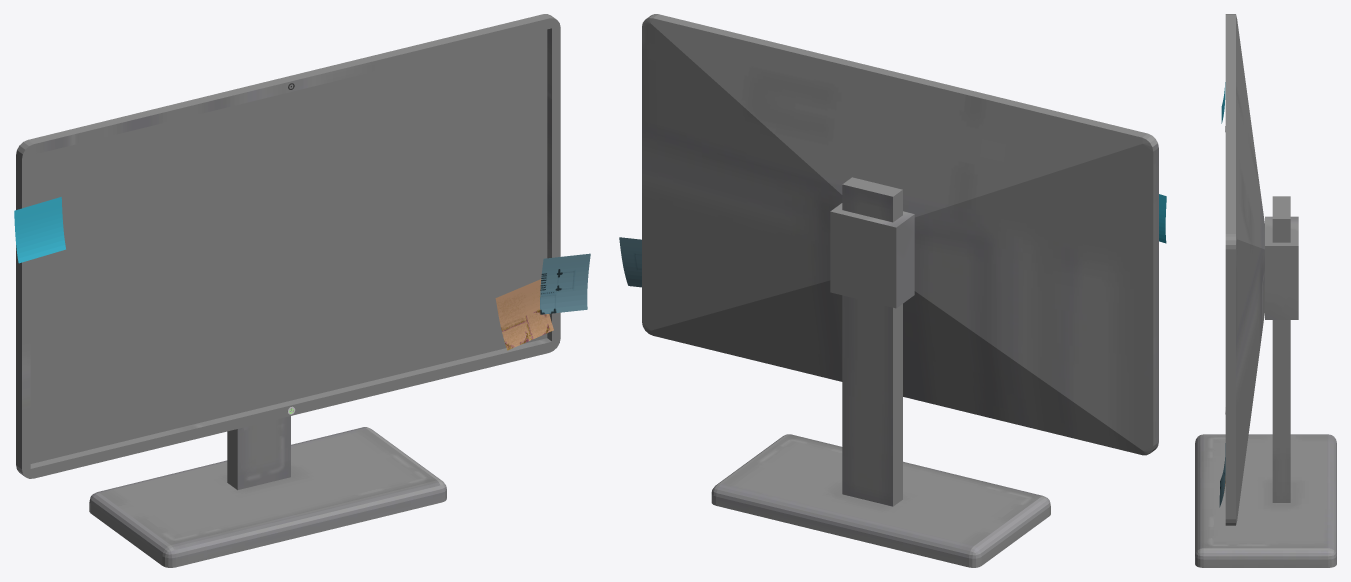
The model's file is monitor.glb.
The picture shows the model from 3 angles, left to right: view 1: azimuth 30°, elevation 25°; view 2: azimuth 150°, elevation 25°; view 3: azimuth 270°, elevation 25°; orthographic projection. The views are drawn at different scales.
Parts seen in each view (by area): view 1: Cube.002; view 2: Cube.002; view 3: Cube.002.
Part boxes in pixels (bbox=[...]): Cube.002: bbox=[14, 14, 590, 567]; Cube.002: bbox=[619, 14, 1166, 567]; Cube.002: bbox=[1195, 14, 1336, 567].
Bounding box in the file's own units: 5.05 × 3.69 × 1.24.
Materials: 7 (3 with a texture image).
